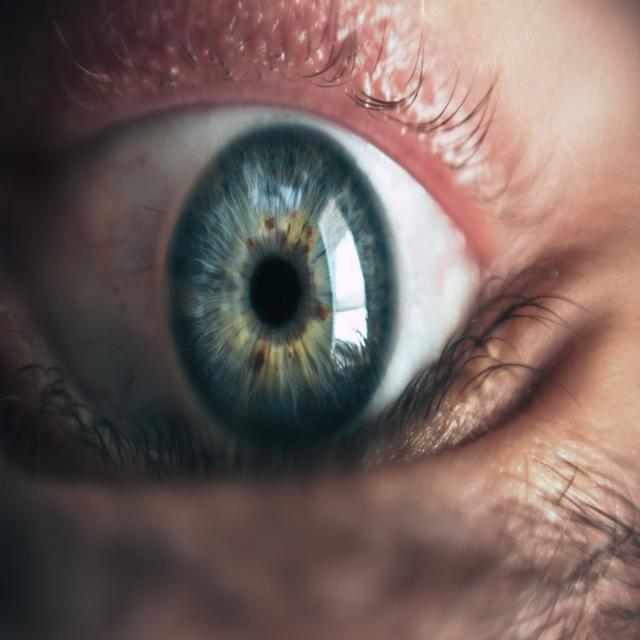Normal: (171, 128, 400, 460)
